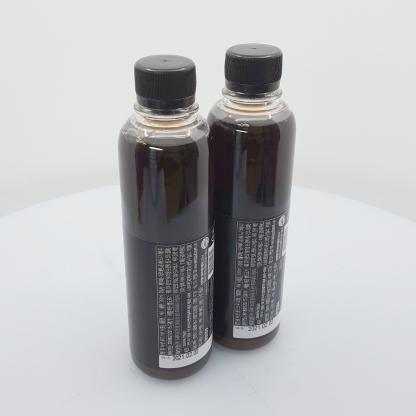--------------300ML: (117, 54, 215, 380), (203, 43, 296, 351)
